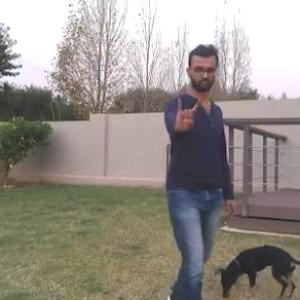takeoff-hand: (173, 94, 204, 134)
